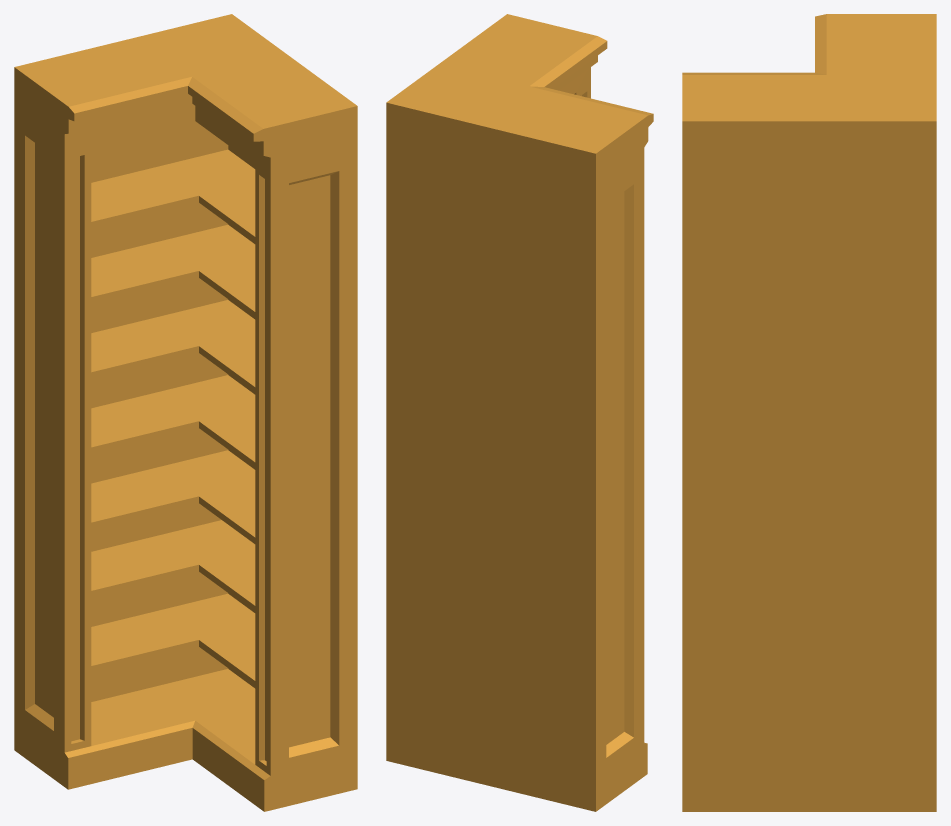
The model's file is SM_Bookcase_Modular_Corner_Inner.fbx.
3 renders of one model, left to right at view 1: azimuth 30°, elevation 25°; view 2: azimuth 150°, elevation 25°; view 3: azimuth 270°, elevation 25°, orthographic. The views are drawn at different scales.
Visible parts, largest first — view 1: bookcase-modular-corner-inner; view 2: bookcase-modular-corner-inner; view 3: bookcase-modular-corner-inner.
Part boxes in pixels (x1,y1,x2,y2): bookcase-modular-corner-inner: (14, 14, 357, 811); bookcase-modular-corner-inner: (386, 14, 653, 811); bookcase-modular-corner-inner: (682, 14, 936, 811).
Bounding box in the file's own units: 1 × 3 × 1.
